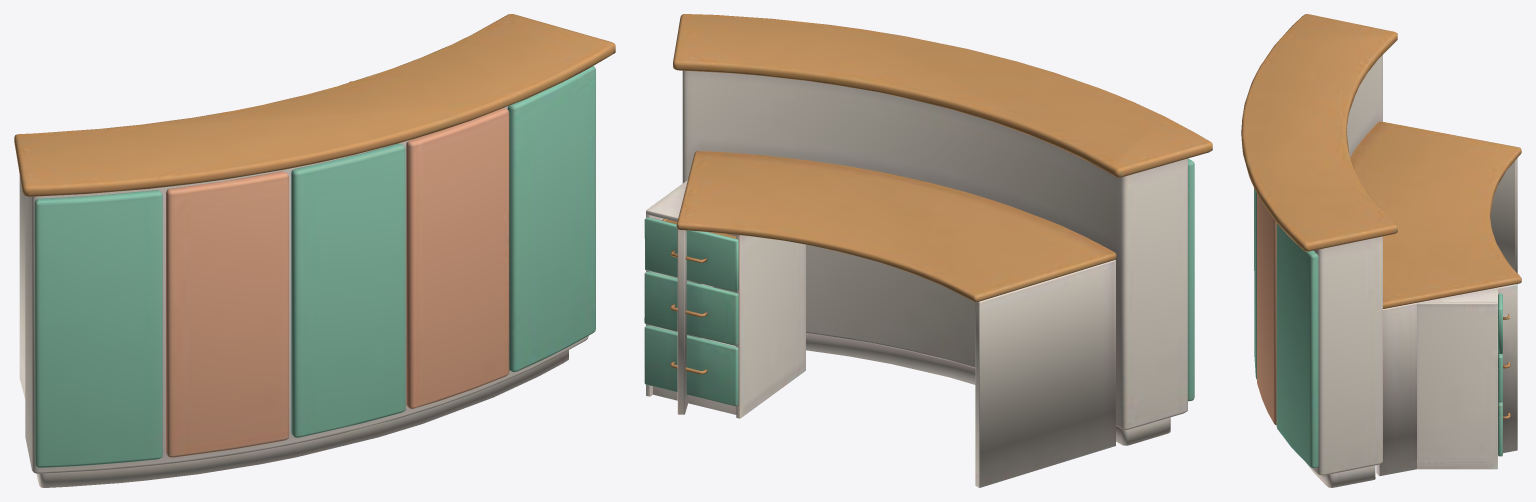
File: reception-desk.glb
3 renders of one model, left to right at view 1: azimuth 30°, elevation 25°; view 2: azimuth 150°, elevation 25°; view 3: azimuth 270°, elevation 25°, orthographic. The views are drawn at different scales.
Parts seen in each view (by area): view 1: reception-desk_body; view 2: reception-desk_body, reception-desk_top_drawer; view 3: reception-desk_body, reception-desk_top_drawer.
Boxes of the visible parts, left/top/right/bottom form: reception-desk_body: left=14, top=14, right=615, bottom=487; reception-desk_body: left=644, top=14, right=1212, bottom=487; reception-desk_top_drawer: left=644, top=217, right=738, bottom=291; reception-desk_body: left=1241, top=14, right=1521, bottom=487; reception-desk_top_drawer: left=1498, top=293, right=1509, bottom=354.
Size of the model in its own units: 2.13 by 1.1 by 1.09.
2 materials, 2 textured.
